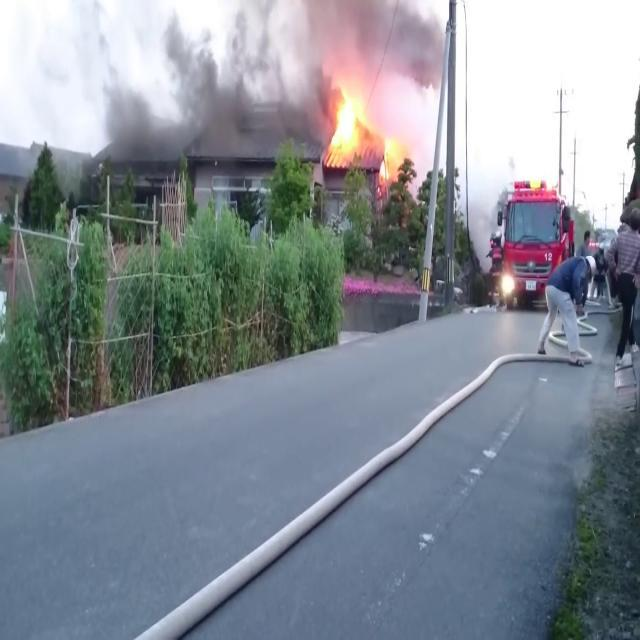Fire: (332, 92, 363, 154), (382, 139, 404, 182)
Smoke: (94, 2, 443, 87), (102, 91, 325, 152)
